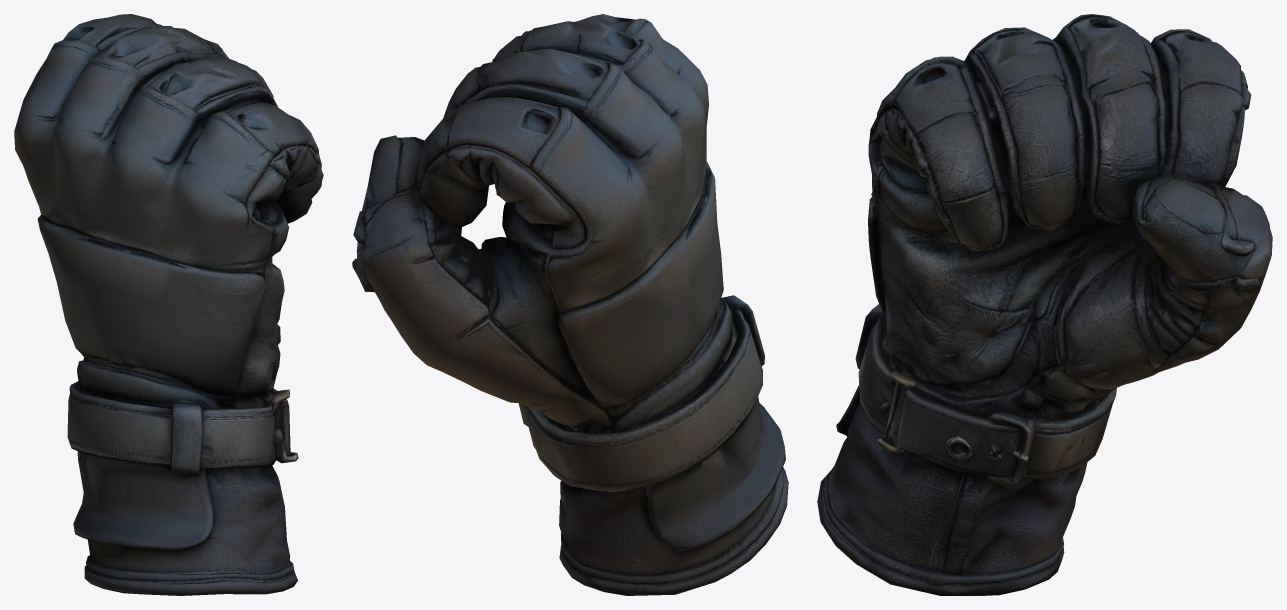
Rendered from fist.glb.
3 views of the same model, side by side, from view 1: azimuth 30°, elevation 25°; view 2: azimuth 150°, elevation 25°; view 3: azimuth 270°, elevation 25° (orthographic). The views are drawn at different scales.
Visible parts, largest first — view 1: tripo_node_0c10a0bf-f728-43bf-824a-393f15508e8f; view 2: tripo_node_0c10a0bf-f728-43bf-824a-393f15508e8f; view 3: tripo_node_0c10a0bf-f728-43bf-824a-393f15508e8f.
Part boxes in pixels (x1,y1,x2,y2): tripo_node_0c10a0bf-f728-43bf-824a-393f15508e8f: (14, 14, 323, 595); tripo_node_0c10a0bf-f728-43bf-824a-393f15508e8f: (352, 14, 788, 595); tripo_node_0c10a0bf-f728-43bf-824a-393f15508e8f: (817, 14, 1272, 595).
Bounding box in the file's own units: 0.5529 × 1 × 0.7561.
Materials: 1 (1 with a texture image).
